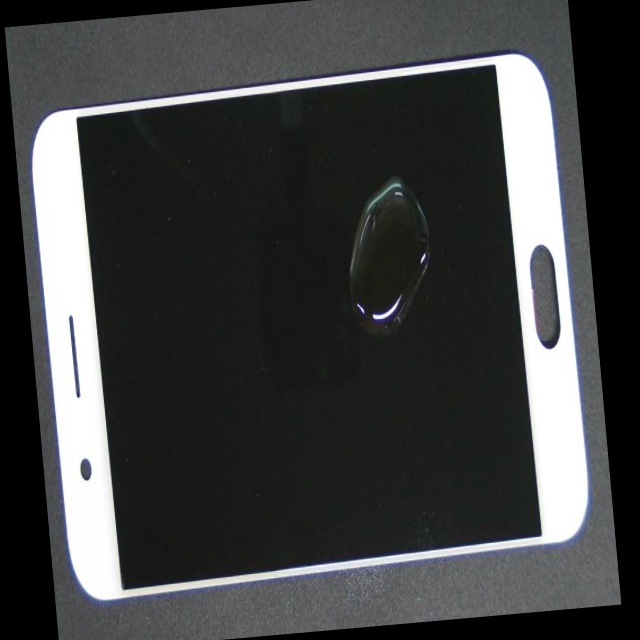oil: (223, 134, 598, 376)
